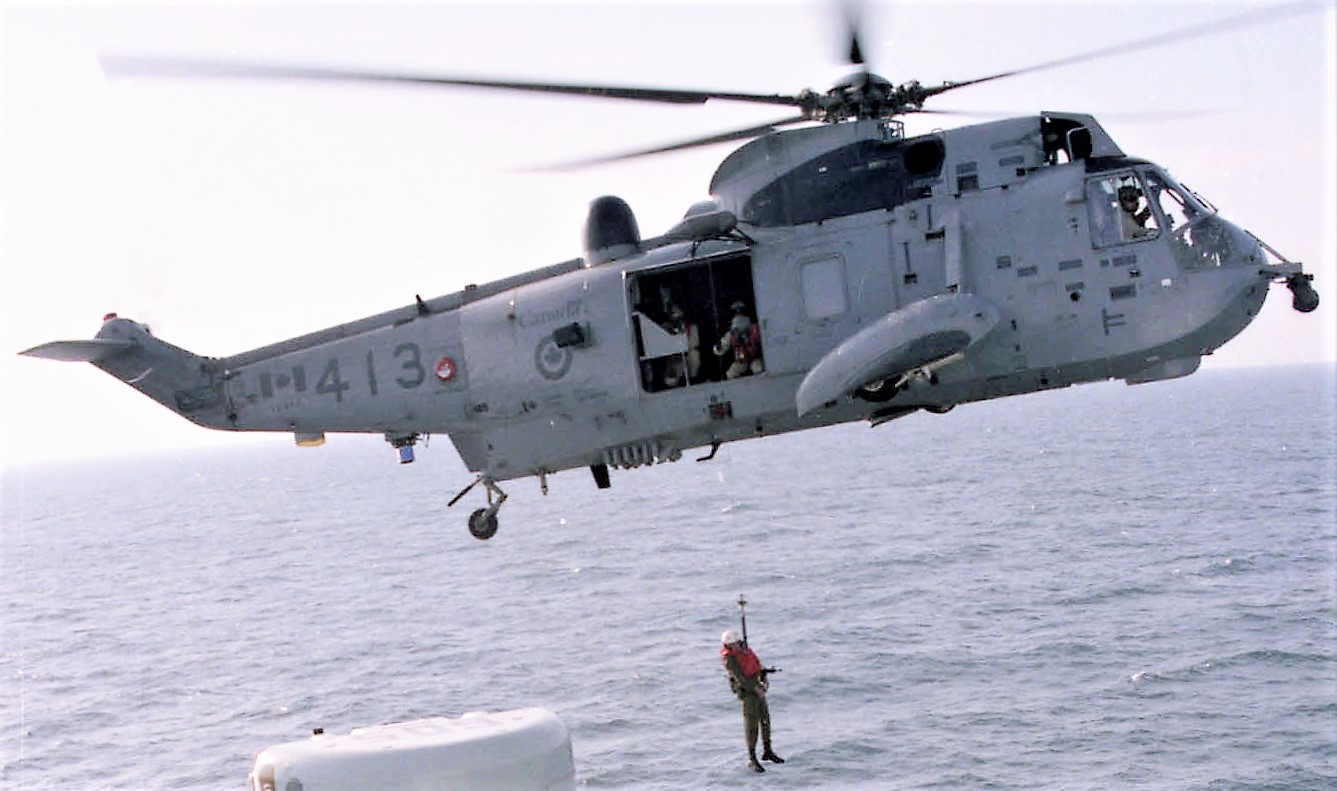Sea King: (9, 39, 1333, 546)
